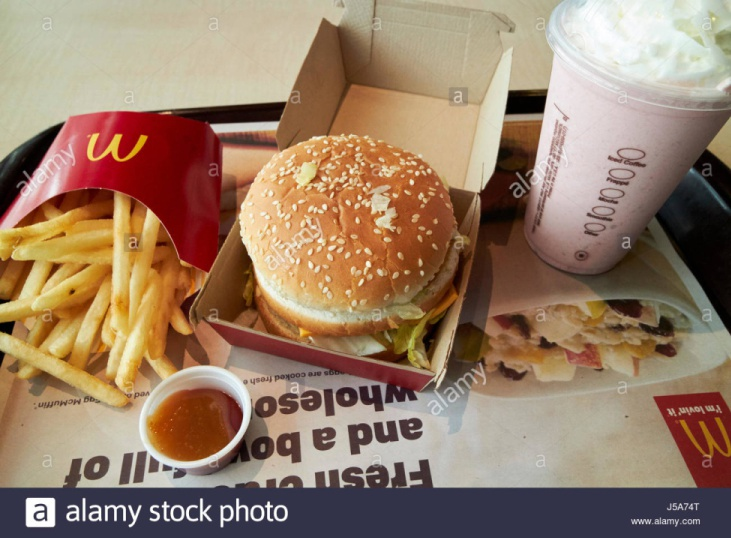mcdonalds: (73, 124, 160, 165)
